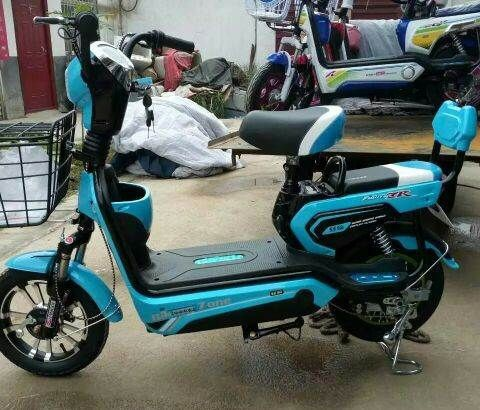non-vehicle: (1, 13, 471, 373), (238, 2, 476, 114)
